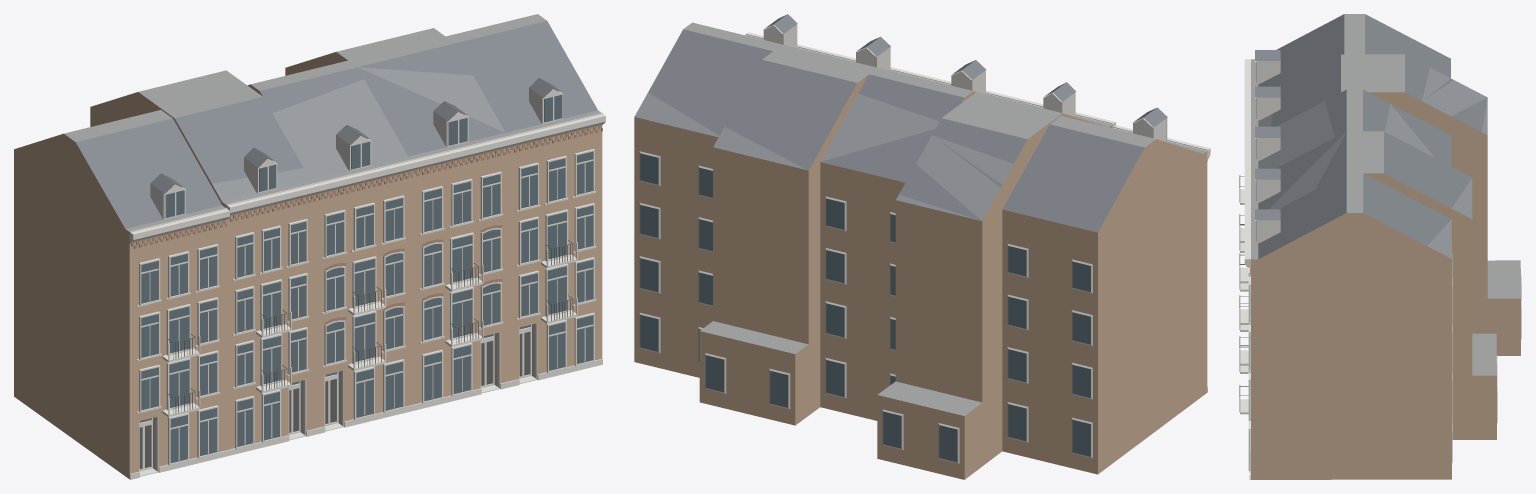
The model's file is chunk-face-anthonisz-40-72-r1.glb.
3 views of the same model, side by side, from view 1: azimuth 30°, elevation 25°; view 2: azimuth 150°, elevation 25°; view 3: azimuth 270°, elevation 25° (orthographic). The views are drawn at different scales.
Parts seen in each view (by area): view 1: face-anthonisz-40-72-r1; view 2: face-anthonisz-40-72-r1; view 3: face-anthonisz-40-72-r1.
Part boxes in pixels (<box>): face-anthonisz-40-72-r1: <box>14,14,605,479</box>; face-anthonisz-40-72-r1: <box>634,14,1210,479</box>; face-anthonisz-40-72-r1: <box>1239,14,1521,479</box>.
Size of the model in its own units: 26.68 by 16.3 by 15.63.
